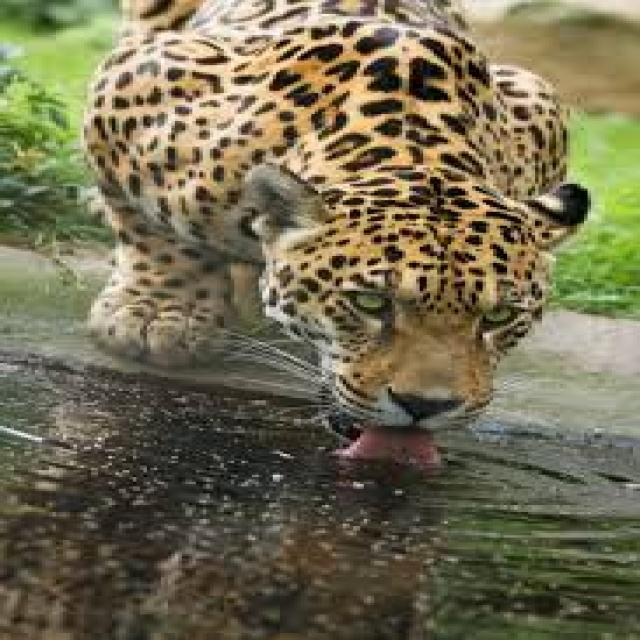Jaguar: (97, 0, 566, 479)
